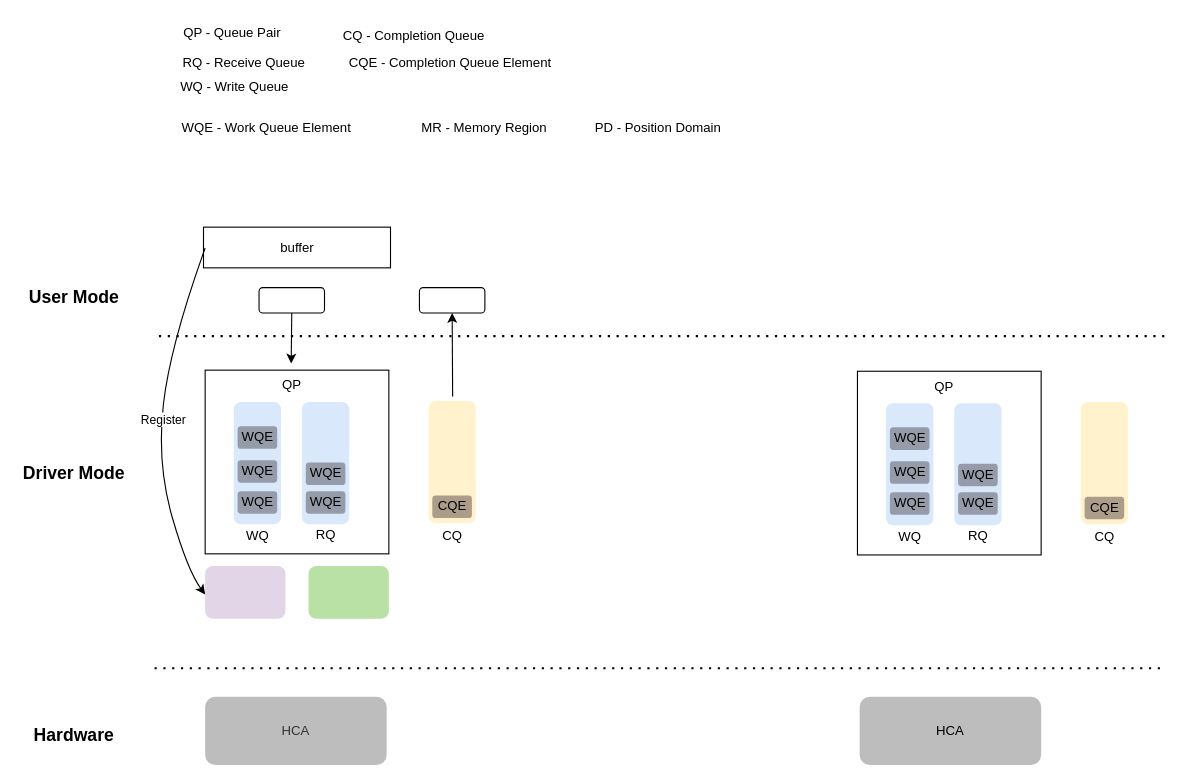
Some shapes in this 1189 by 783 pixel diagram are drawn without their labels. The box of each missing label's shape, as (x1, y1, x2, y2) in pixels:
MR: (205, 565, 285, 618)
PD: (308, 565, 388, 618)
Poll: (418, 287, 485, 313)
Post: (258, 287, 324, 313)
